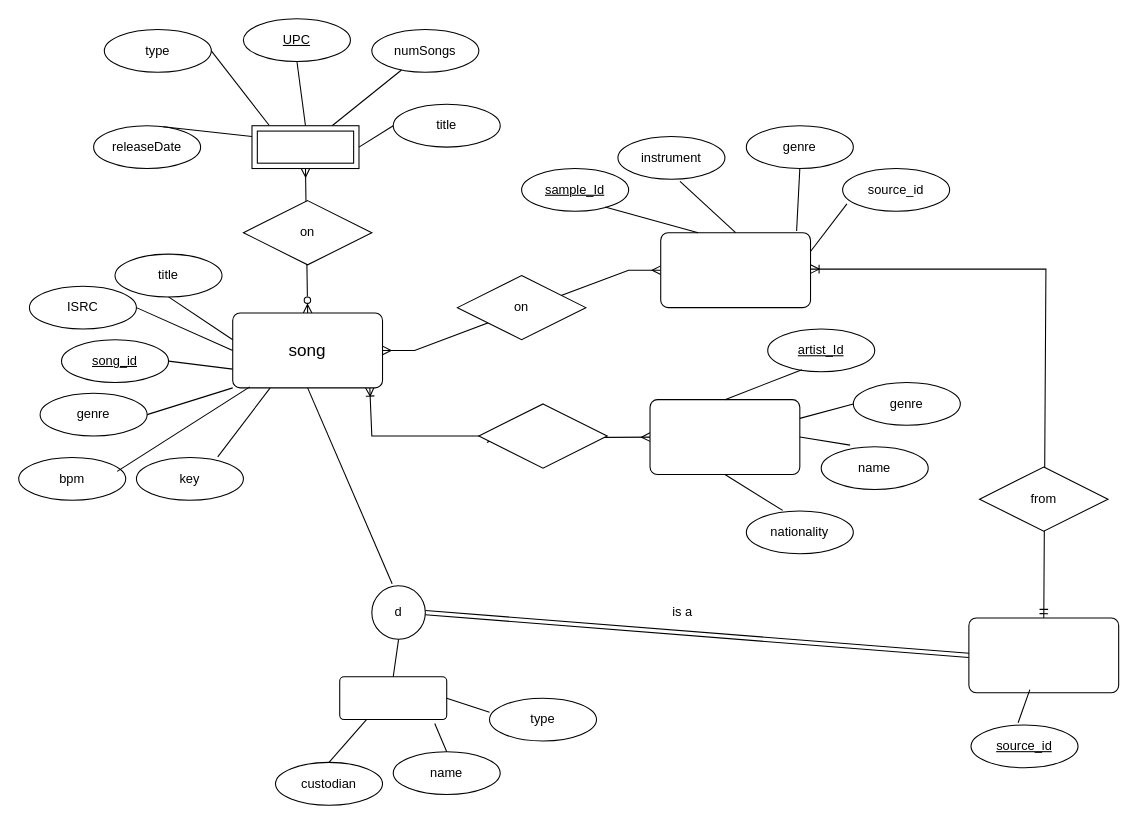
This 1137x824 diagram has some shape labels left out. Here are the shapes that lost their labels. From the top down, the centre of each, then its label:
At (x=305, y=147): "release".
At (x=735, y=270): "Sample".
At (x=542, y=435): "owns".
At (x=724, y=437): "artist".
At (x=1043, y=655): "sampleSource".
At (x=393, y=698): "repo".
